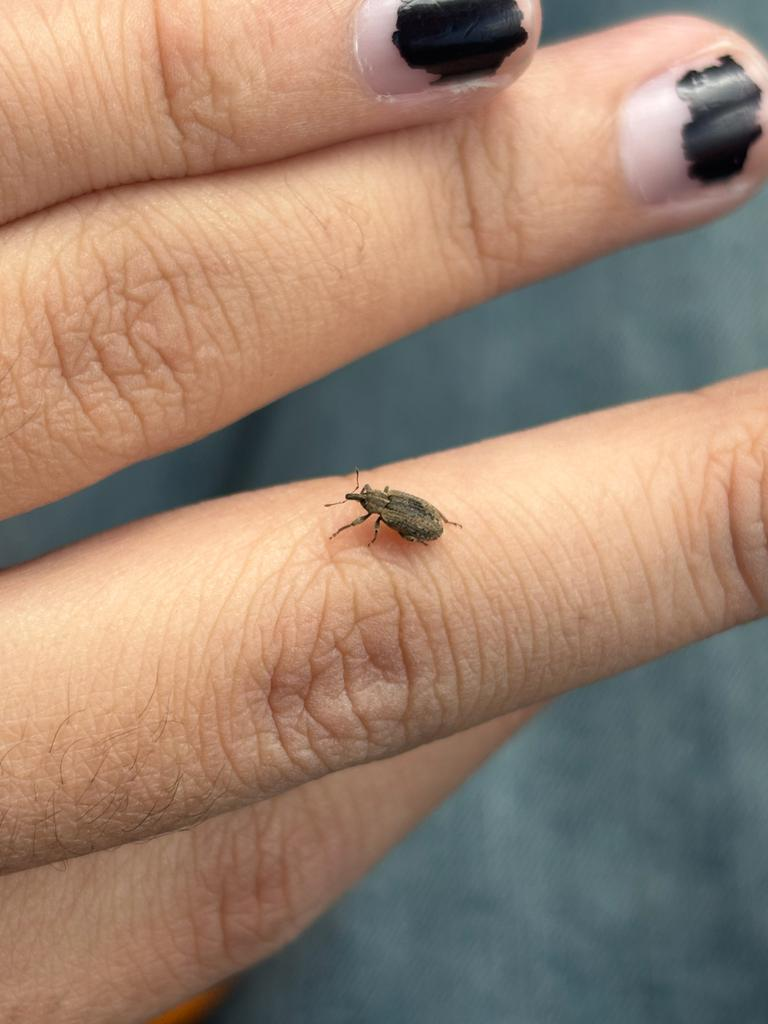weevils: (299, 444, 479, 589)
